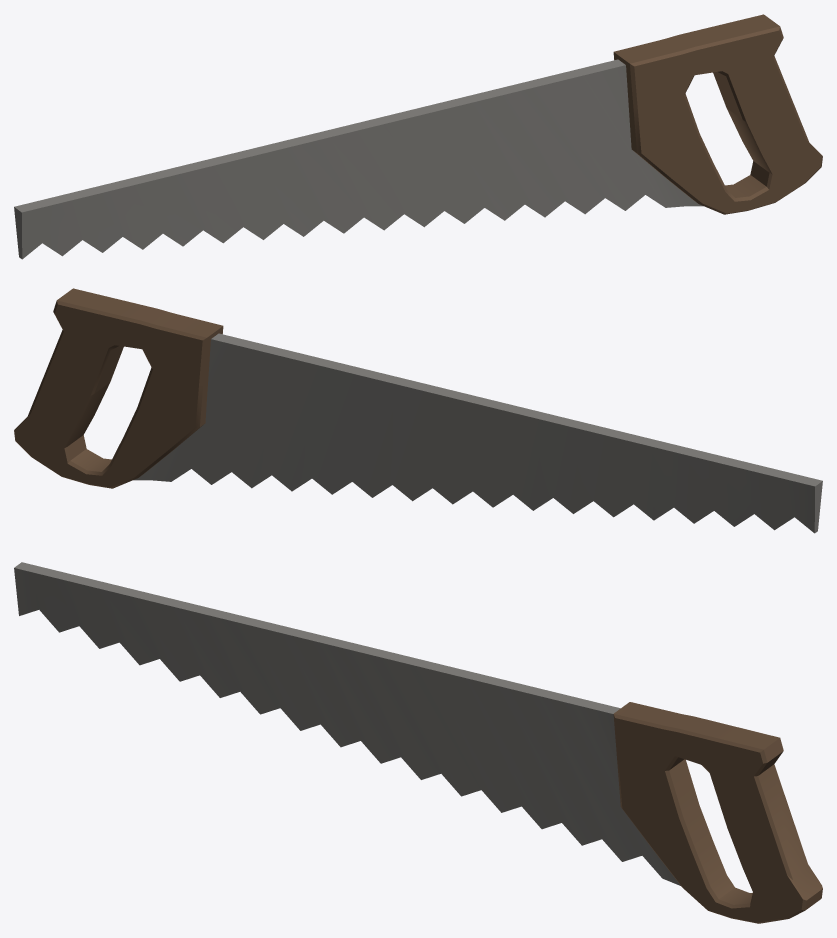
Rendered from Saw.fbx.
The picture shows the model from 3 angles, top to bottom: view 1: azimuth 30°, elevation 25°; view 2: azimuth 150°, elevation 25°; view 3: azimuth 330°, elevation 25°; orthographic projection.
Visible parts, largest first — view 1: Raw; view 2: Raw; view 3: Raw.
Boxes of the visible parts, x1,y1,x2,y2 form: Raw: (14, 14, 822, 259); Raw: (14, 288, 822, 533); Raw: (14, 562, 822, 923).
Size of the model in its own units: 482 by 102 by 20.03.
